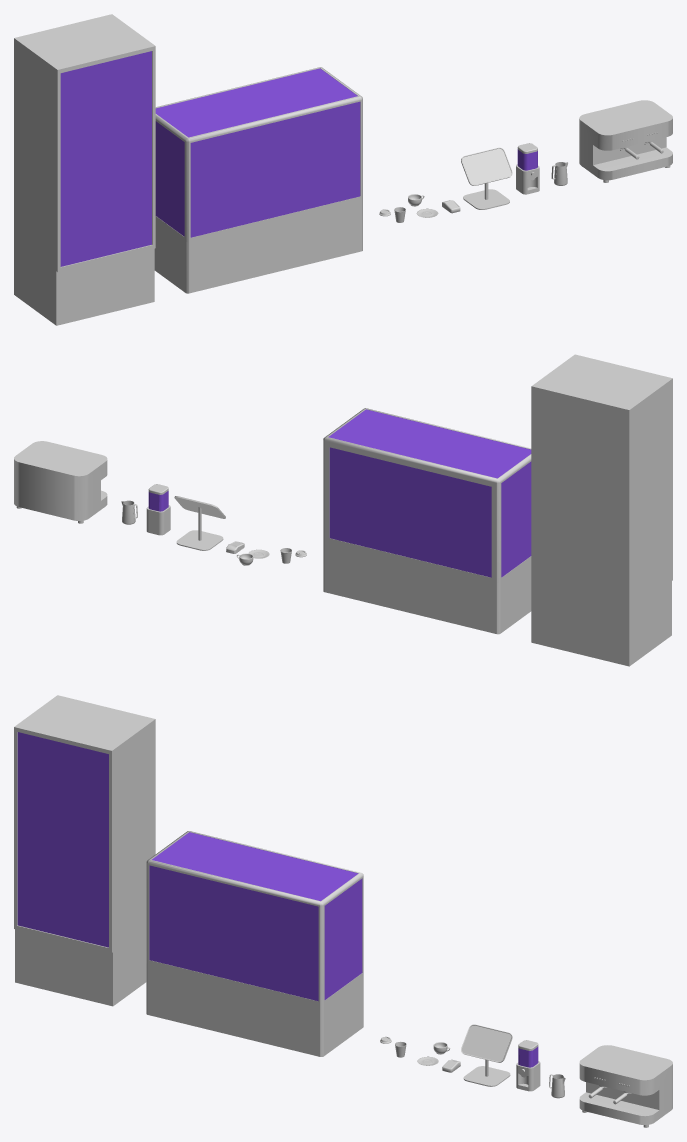
File: MBSCoffeeShop_Equipment.fbx
3 renders of one model, top to bottom at view 1: azimuth 30°, elevation 25°; view 2: azimuth 150°, elevation 25°; view 3: azimuth 330°, elevation 25°, orthographic.
Visible parts, largest first — view 1: Cake_showcase.001, Refrigirator.001, Refrigirator_Door.001, CoffeeMachine.001, POS_Computer.001, Coffee_Grinder.001; view 2: Refrigirator.001, Cake_showcase.001, CoffeeMachine.001, POS_Computer.001, Coffee_Grinder.001; view 3: Cake_showcase.001, Refrigirator_Door.001, Refrigirator.001, CoffeeMachine.001, POS_Computer.001, Coffee_Grinder.001.
Part boxes in pixels (x1,y1,x2,y2): Cake_showcase.001: [154, 67, 362, 293]; Refrigirator.001: [14, 14, 154, 325]; Refrigirator_Door.001: [56, 45, 155, 272]; CoffeeMachine.001: [579, 100, 672, 182]; POS_Computer.001: [461, 147, 512, 209]; Coffee_Grinder.001: [516, 143, 539, 194]; Refrigirator.001: [531, 355, 671, 666]; Cake_showcase.001: [323, 408, 531, 634]; CoffeeMachine.001: [14, 441, 107, 523]; POS_Computer.001: [174, 496, 225, 550]; Coffee_Grinder.001: [146, 484, 170, 535]; Cake_showcase.001: [146, 831, 363, 1056]; Refrigirator_Door.001: [14, 726, 113, 952]; Refrigirator.001: [15, 695, 155, 1006]; CoffeeMachine.001: [579, 1045, 672, 1127]; POS_Computer.001: [461, 1024, 512, 1086]; Coffee_Grinder.001: [516, 1040, 540, 1091].
Bounding box in the file's own units: 512 × 200 × 63.76.
